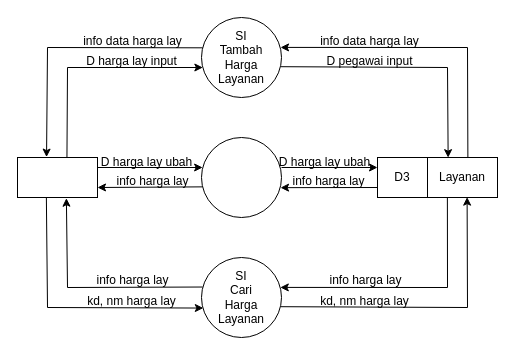
Some shapes in this 515 by 355 pixel diagram are drawn without their labels. Each missing label, with the centre of its shape:
Pegawai: the point at 57,177
SI Ubah Harga Layanan: the point at 241,177
